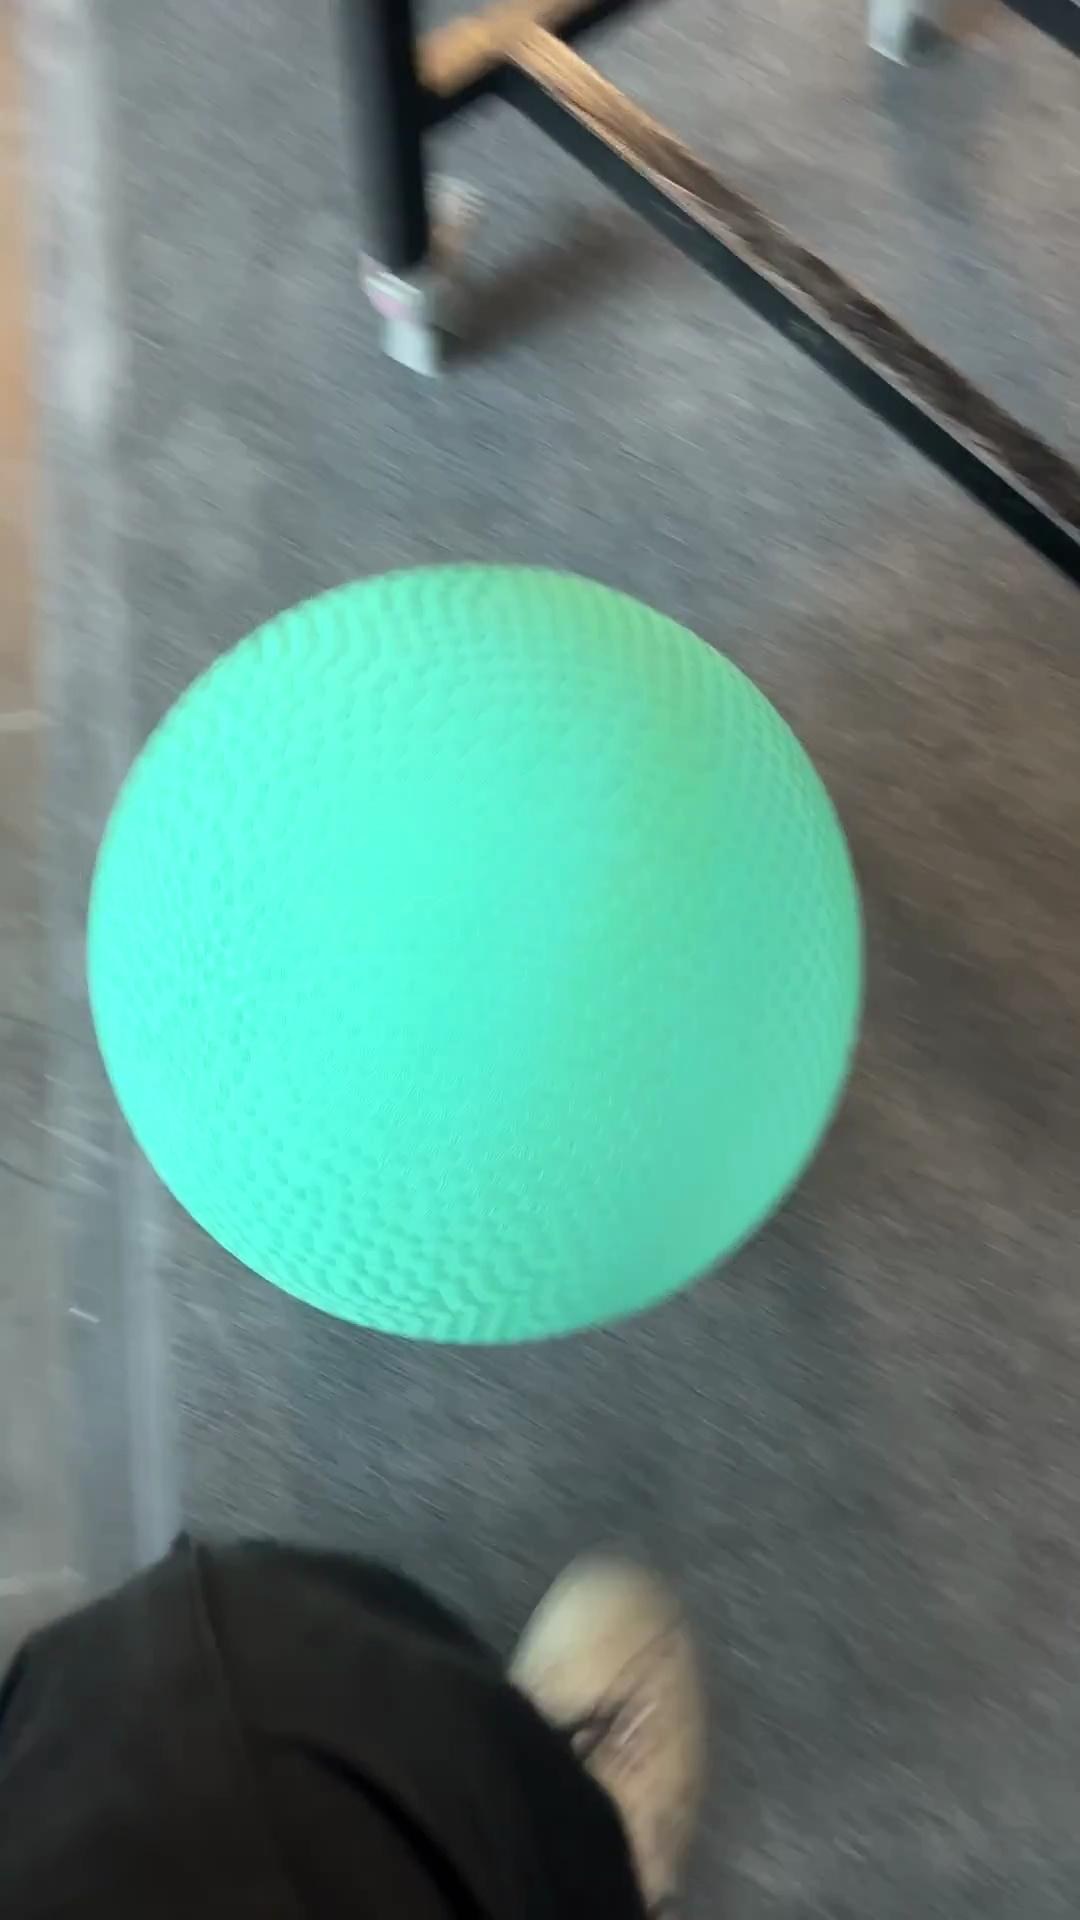ALGAE: (82, 557, 867, 1349)
